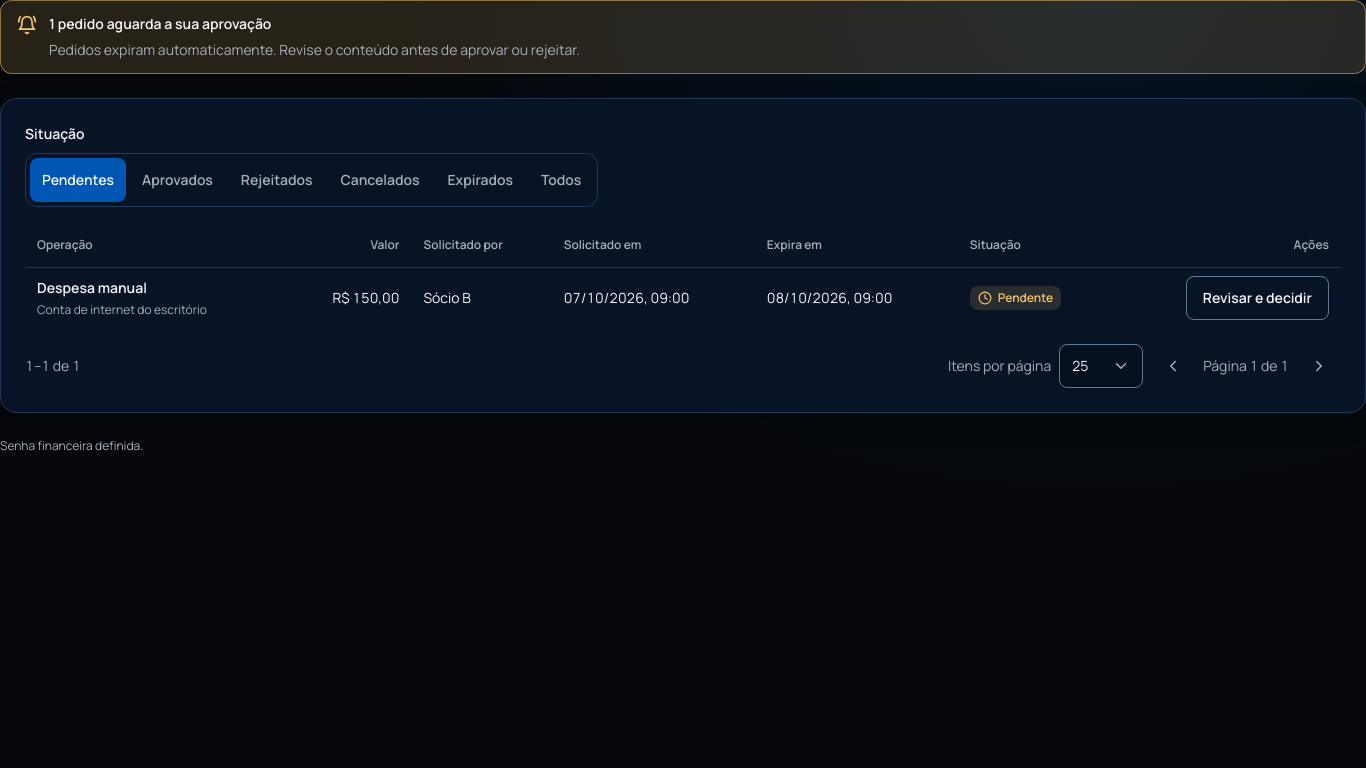
Test case: Aprovações — modo DUPLA (inalterado) › o outro Master continua vendo "Aprovar pedido" e "Rejeitar"; nada de "Autorizar"
Check: the text "1 pedido aguarda a sua aprovação" is shown, box [49,14,271,33]
Click the button with aria-label "Revisar pedido: despesa manual" at (1257, 298), box [1186,276,1329,320]
(page scrolled)
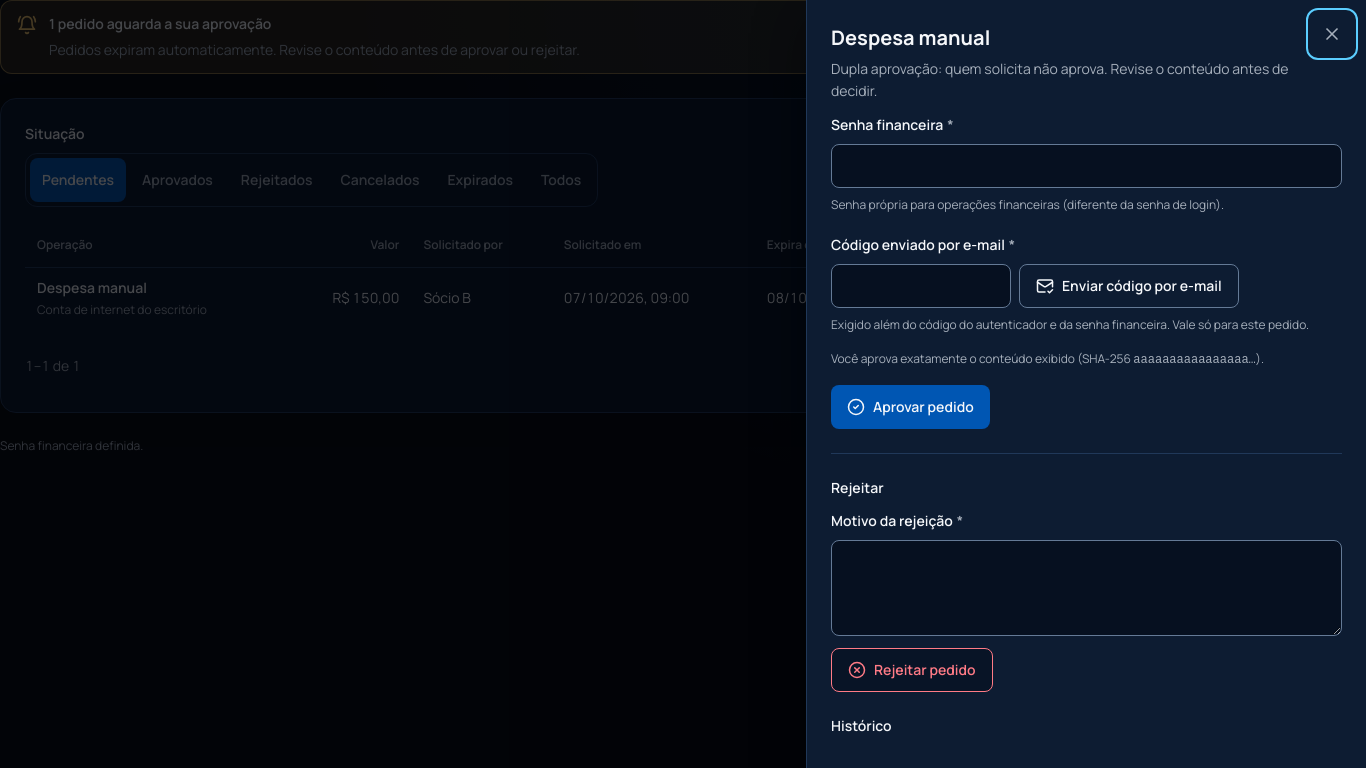
Check: the form named "Aprovar pedido" is shown, box [831,118,1342,429]
Check: the button "Rejeitar pedido" is shown, box [831,648,993,692]
